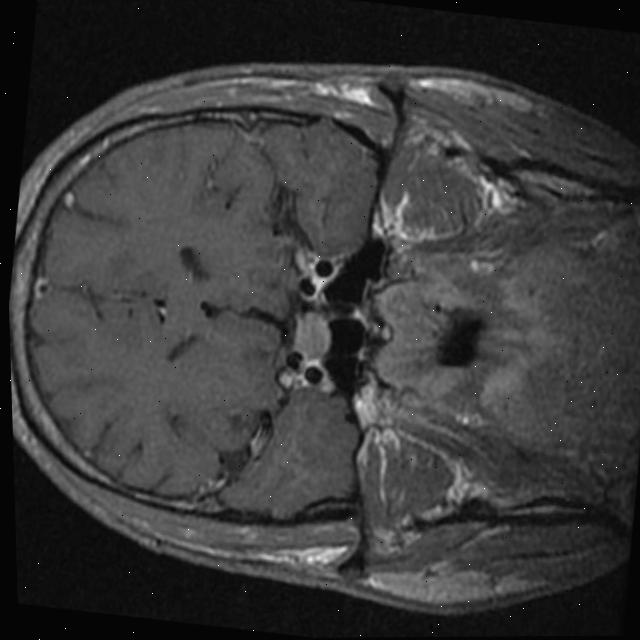Pituitary: (289, 307, 335, 358)
